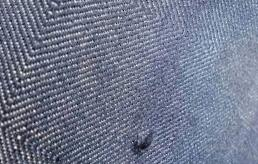knot: (130, 129, 157, 155)
